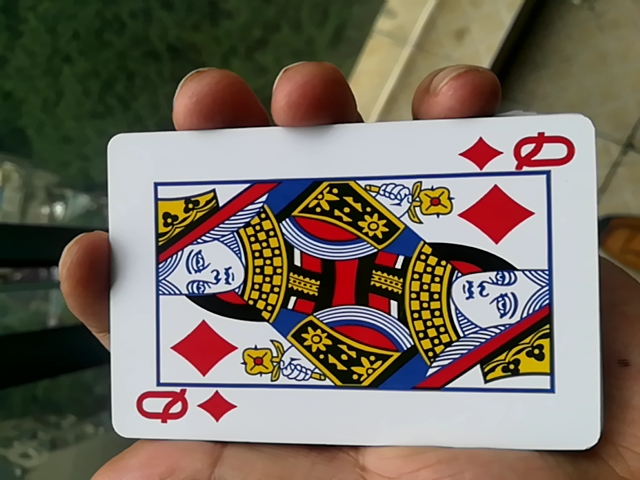fk q: (92, 115, 592, 454)
